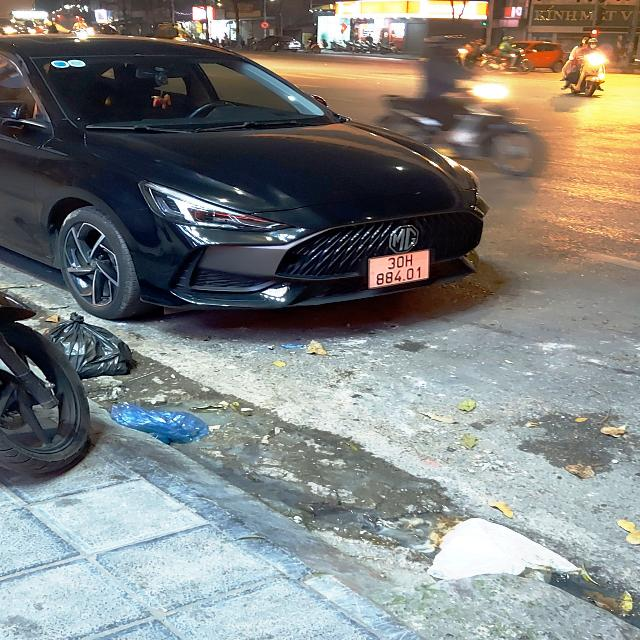license_plate: (370, 251, 431, 290)
